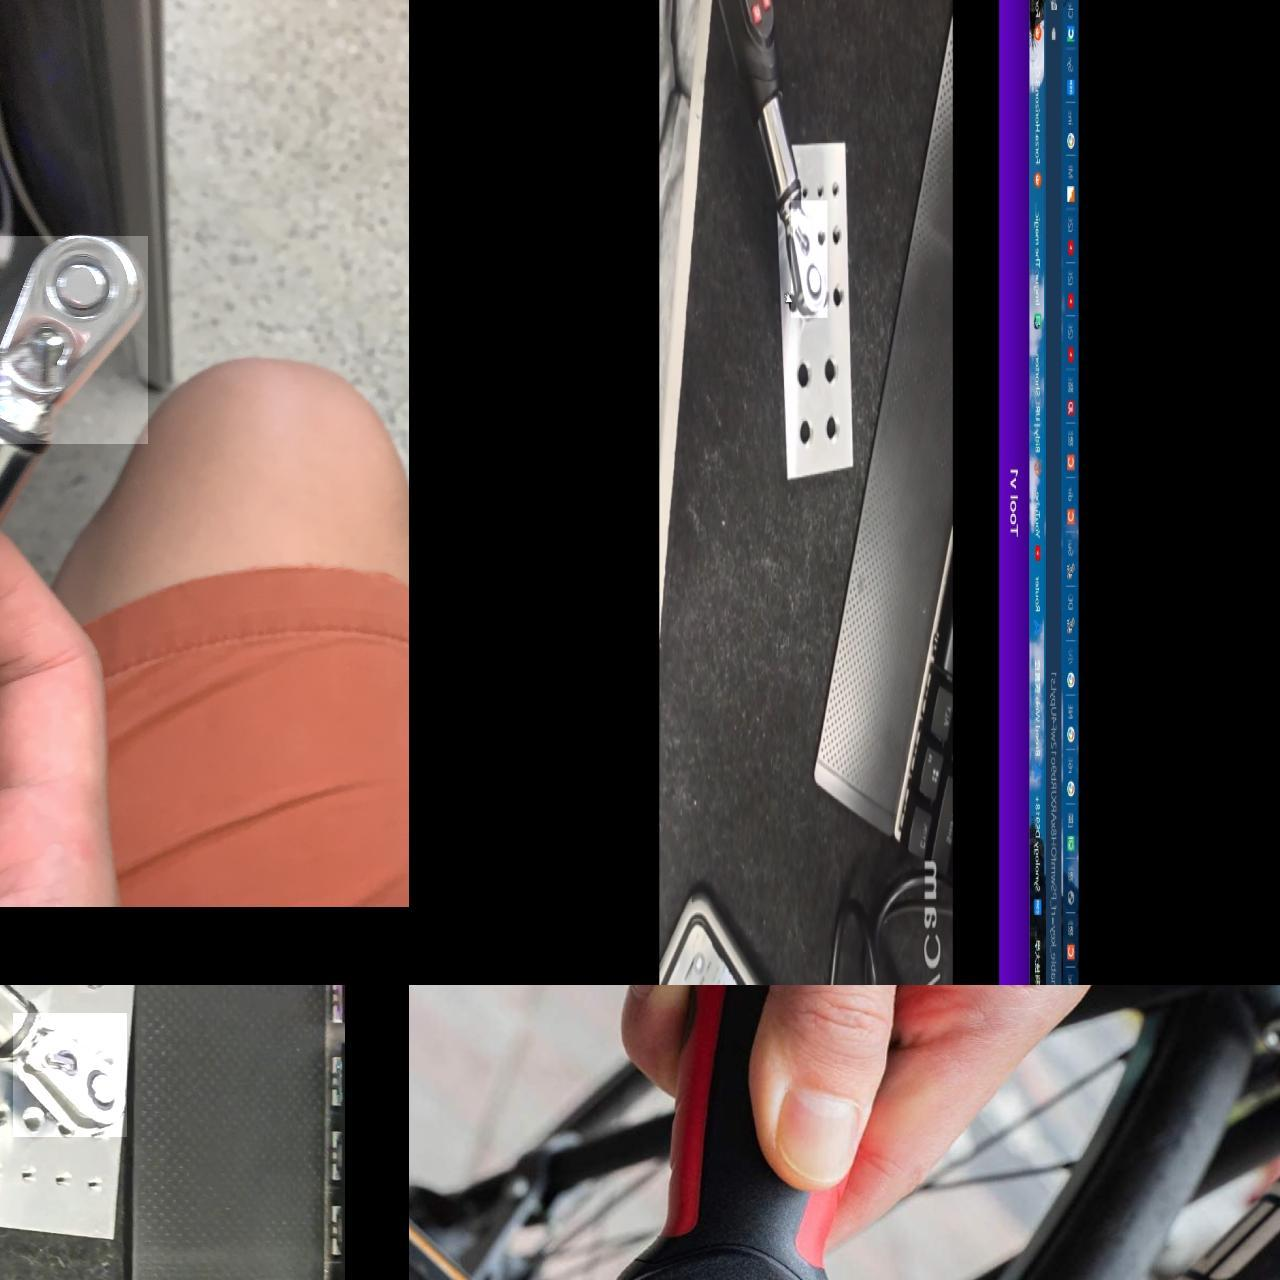Tool: (0, 234, 148, 443), (13, 1012, 127, 1136), (790, 198, 828, 316)
hole: (823, 410, 850, 438), (821, 358, 847, 386), (795, 361, 821, 390), (797, 414, 822, 442), (25, 1114, 46, 1133), (832, 284, 846, 313), (87, 1175, 105, 1192), (52, 1175, 69, 1191), (813, 181, 829, 199), (830, 179, 842, 203), (22, 1167, 39, 1184), (833, 220, 842, 253), (813, 223, 824, 246), (801, 183, 811, 200)
